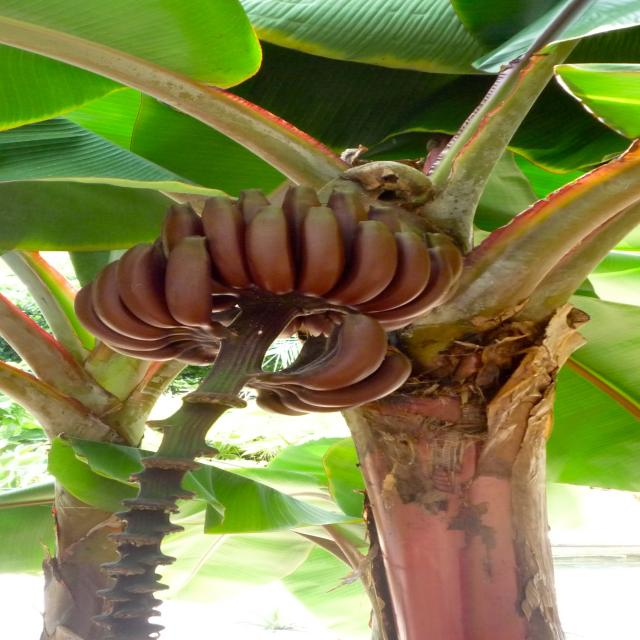Banana: (61, 153, 492, 437), (252, 309, 390, 395), (325, 206, 406, 307), (120, 232, 168, 346), (167, 234, 213, 341), (204, 190, 247, 300), (249, 201, 295, 302), (306, 193, 349, 300), (384, 222, 432, 316)
